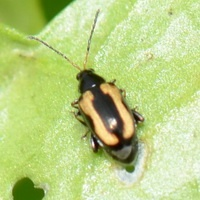insect: (29, 9, 143, 172)
